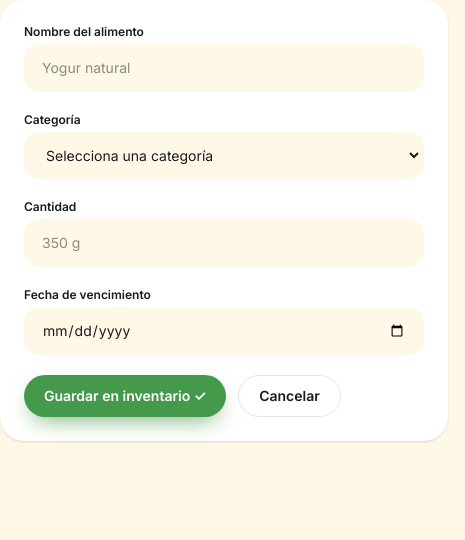
Scenario: shows the name error when submitting an empty form
Click the button "Guardar en inventario ✓" at (125, 396), box [24,375,226,417]
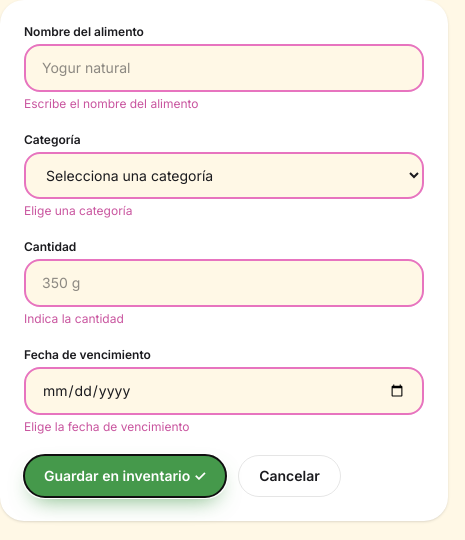
Check: the text "Escribe el nombre del alimento" is shown, box [24,96,199,111]
